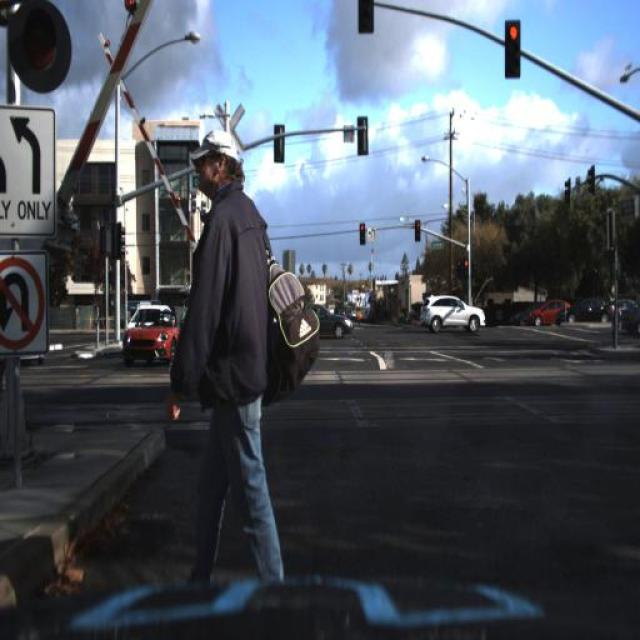car: (416, 293, 486, 341), (293, 301, 356, 343), (556, 293, 622, 329), (114, 304, 157, 356), (529, 296, 575, 330)
trafficLight: (170, 118, 320, 620), (164, 118, 278, 630)
trafficLight-Green: (14, 2, 67, 84), (357, 1, 375, 35)
trafficLight-RedLeft: (503, 20, 522, 78), (412, 213, 423, 246), (462, 252, 471, 284), (358, 219, 367, 246), (414, 216, 420, 242)
